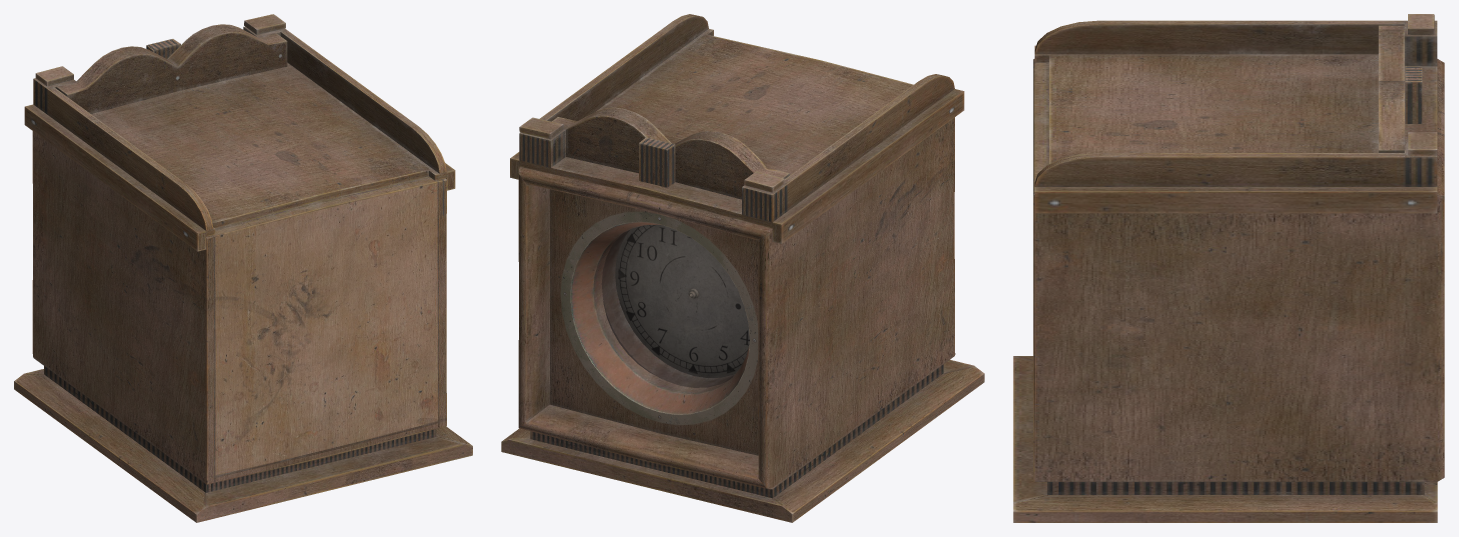
3 renders of one model, left to right at view 1: azimuth 30°, elevation 25°; view 2: azimuth 150°, elevation 25°; view 3: azimuth 270°, elevation 25°, orthographic. The views are drawn at different scales.
Parts seen in each view (by area): view 1: Antique Rustic Mantel Clock.001; view 2: Antique Rustic Mantel Clock.001; view 3: Antique Rustic Mantel Clock.001.
Boxes of the visible parts, x1=… form: Antique Rustic Mantel Clock.001: x1=14, y1=14, x2=472, y2=522; Antique Rustic Mantel Clock.001: x1=501, y1=14, x2=984, y2=522; Antique Rustic Mantel Clock.001: x1=1013, y1=14, x2=1444, y2=522.
Bounding box in the file's own units: 57.87 × 65.92 × 67.28.
